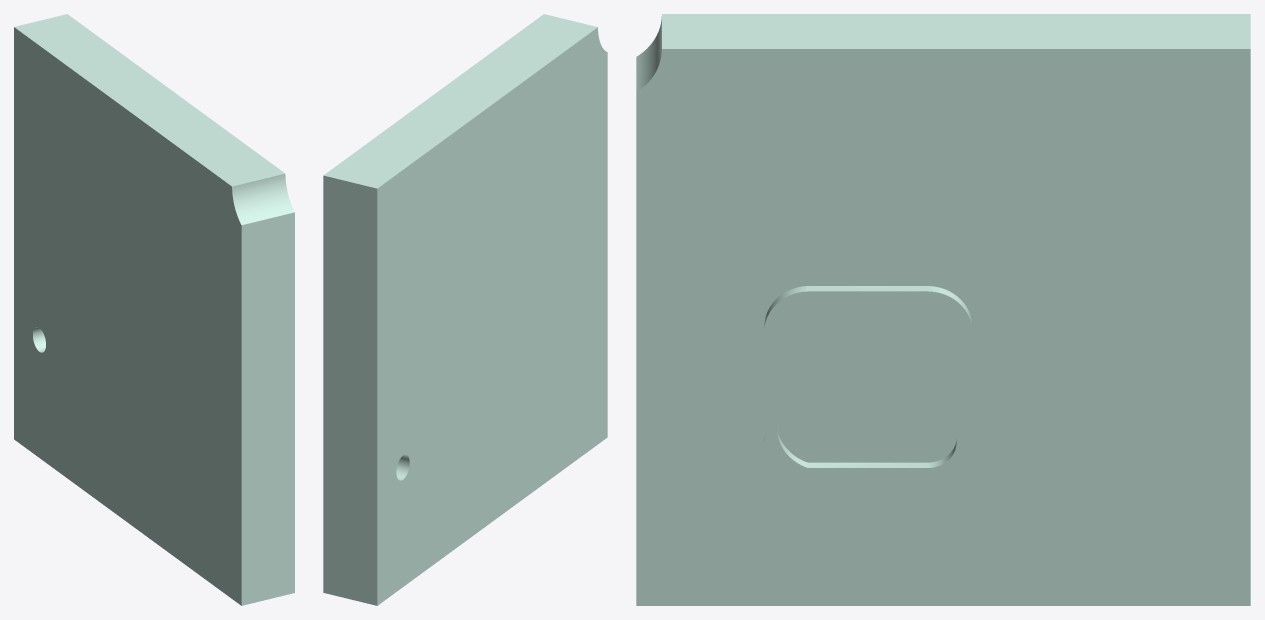
3 views of the same model, side by side, from view 1: azimuth 30°, elevation 25°; view 2: azimuth 150°, elevation 25°; view 3: azimuth 270°, elevation 25° (orthographic). The views are drawn at different scales.
Visible parts, largest first — view 1: Renderer Node; view 2: Renderer Node; view 3: Renderer Node.
Boxes of the visible parts, box(x1,y1,x2,y2) form: Renderer Node: box(14, 14, 294, 605); Renderer Node: box(323, 14, 607, 605); Renderer Node: box(636, 14, 1250, 605).
Size of the model in its own units: 0.2344 by 1.5 by 1.5.
